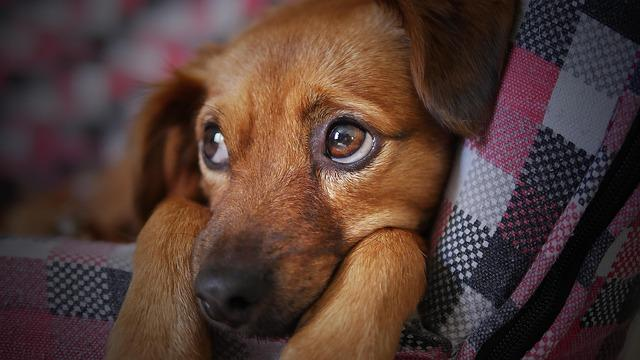Non_Gorille: (104, 1, 546, 360)
